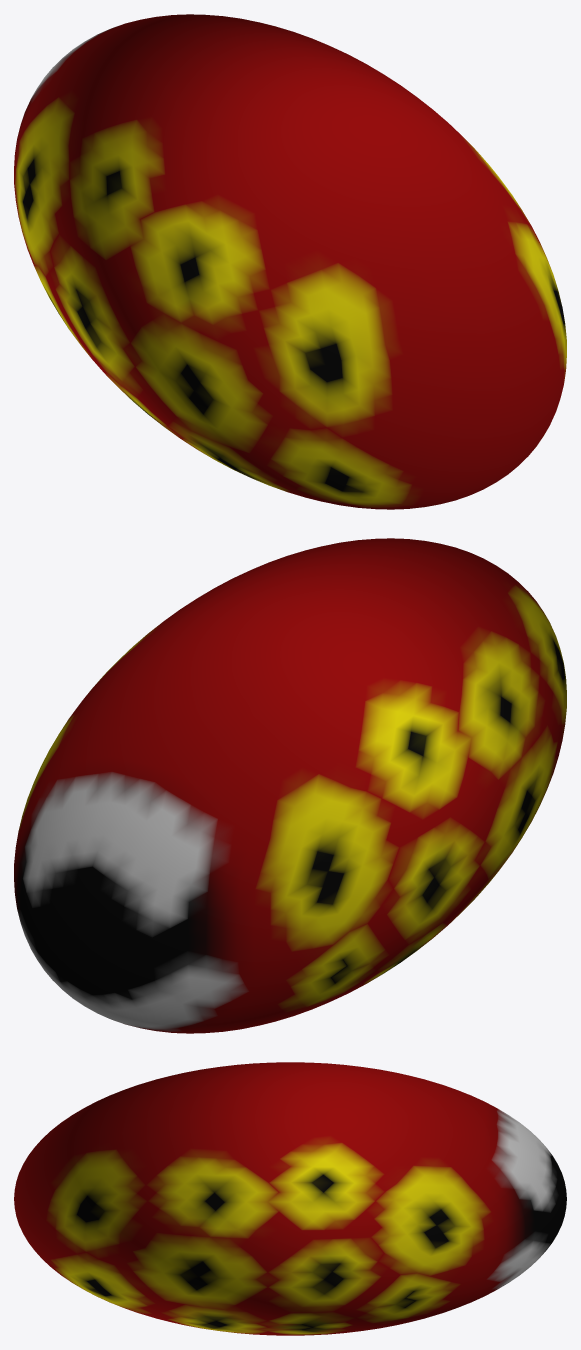
The picture shows the model from 3 angles, top to bottom: view 1: azimuth 30°, elevation 25°; view 2: azimuth 150°, elevation 25°; view 3: azimuth 270°, elevation 25°; orthographic projection. The views are drawn at different scales.
Visible parts, largest first — view 1: Object_2; view 2: Object_2; view 3: Object_2.
Part boxes in pixels (left/top/right/bottom): Object_2: left=14, top=14, right=566, bottom=509; Object_2: left=14, top=538, right=566, bottom=1033; Object_2: left=14, top=1062, right=566, bottom=1335.
Size of the model in its own units: 14.9 by 14.98 by 30.26.
